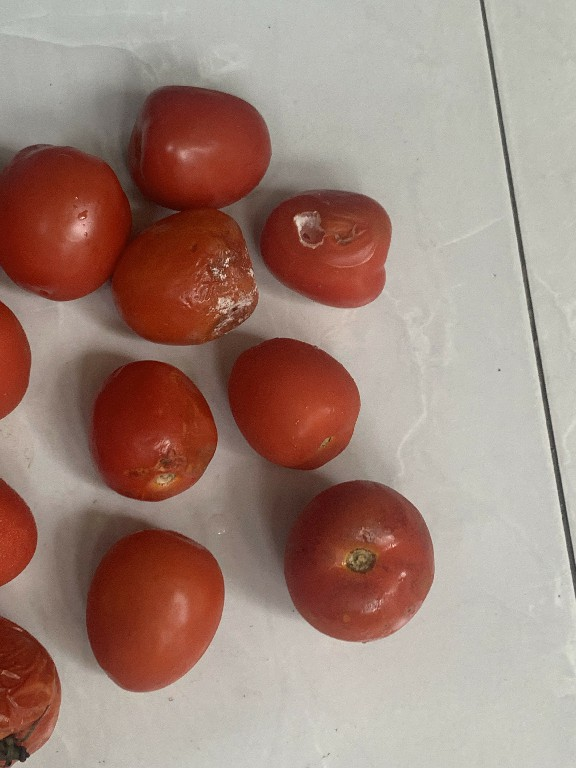NG: (283, 475, 439, 644), (84, 349, 220, 506), (107, 204, 257, 344), (260, 183, 388, 311)
OK: (77, 522, 230, 697), (0, 137, 132, 301), (223, 332, 361, 474), (123, 79, 279, 202)
